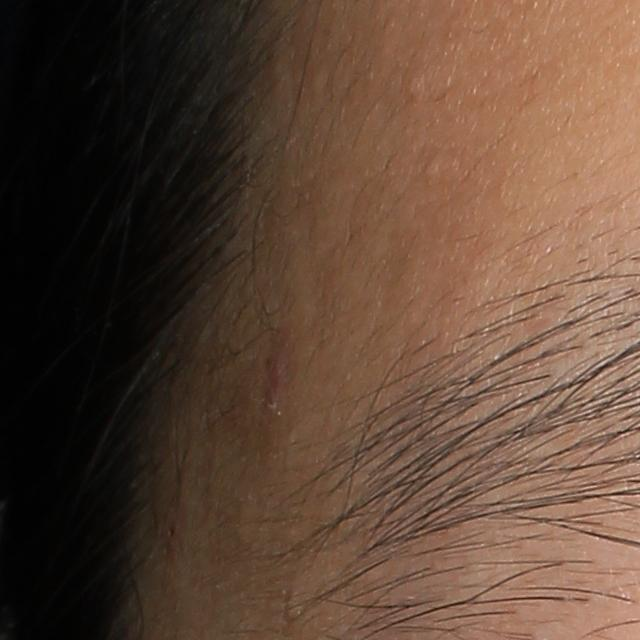comedo: (403, 73, 425, 98)
